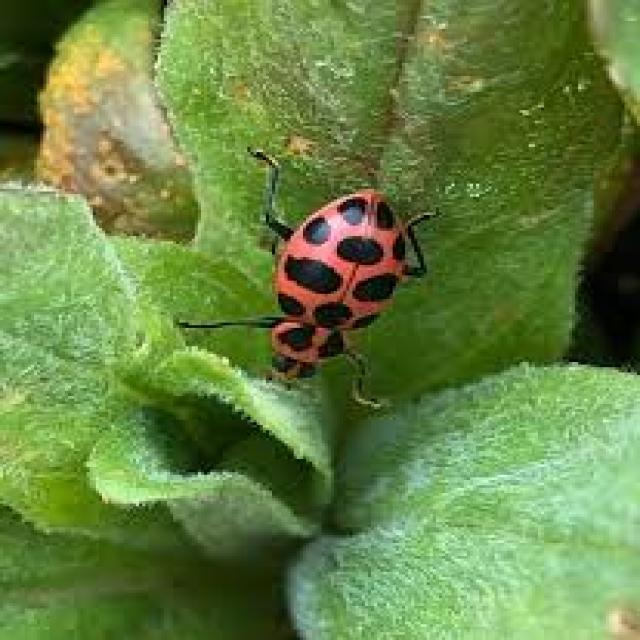bug: (173, 136, 446, 424)
